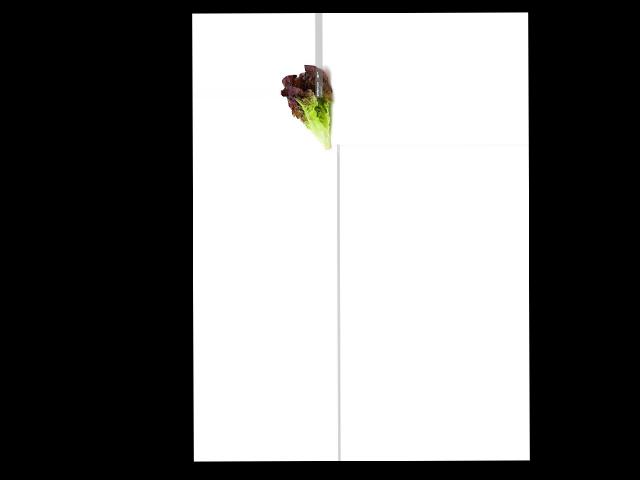lettuce: (280, 63, 336, 153)
